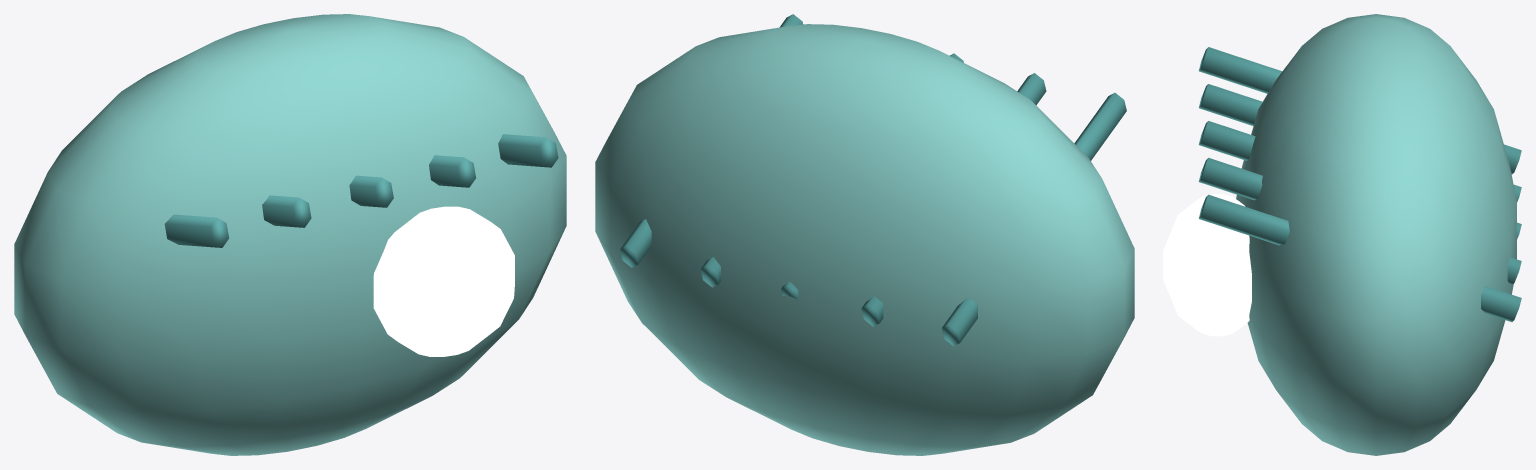
File: xy_item_imprint_shell.glb
The picture shows the model from 3 angles, left to right: view 1: azimuth 30°, elevation 25°; view 2: azimuth 150°, elevation 25°; view 3: azimuth 270°, elevation 25°; orthographic projection. The views are drawn at different scales.
Parts seen in each view (by area): view 1: ShellBowl, ShellPearl, ShellRidge, ShellRidge.004, ShellRidge.001, ShellRidge.003, ShellRidge.002; view 2: ShellBowl, ShellRidge, ShellRidge.004, ShellRidge.001; view 3: ShellBowl, ShellPearl, ShellRidge.004, ShellRidge, ShellRidge.003, ShellRidge.001, ShellRidge.002.
Part boxes in pixels (bbox=[...]): ShellBowl: bbox=[14, 14, 566, 455]; ShellPearl: bbox=[373, 206, 514, 356]; ShellRidge: bbox=[164, 214, 229, 247]; ShellRidge.004: bbox=[498, 134, 558, 167]; ShellRidge.001: bbox=[262, 195, 311, 227]; ShellRidge.003: bbox=[429, 155, 475, 187]; ShellRidge.002: bbox=[349, 175, 393, 207]; ShellBowl: bbox=[595, 24, 1134, 455]; ShellRidge: bbox=[942, 92, 1126, 346]; ShellRidge.004: bbox=[620, 14, 803, 267]; ShellRidge.001: bbox=[861, 73, 1046, 326]; ShellBowl: bbox=[1236, 14, 1516, 455]; ShellPearl: bbox=[1163, 194, 1251, 336]; ShellRidge.004: bbox=[1198, 194, 1521, 321]; ShellRidge: bbox=[1199, 47, 1521, 174]; ShellRidge.003: bbox=[1198, 157, 1521, 285]; ShellRidge.001: bbox=[1199, 84, 1521, 202]; ShellRidge.002: bbox=[1198, 121, 1521, 240].
Bounding box in the file's own units: 0.7091 × 0.52 × 0.4517.
